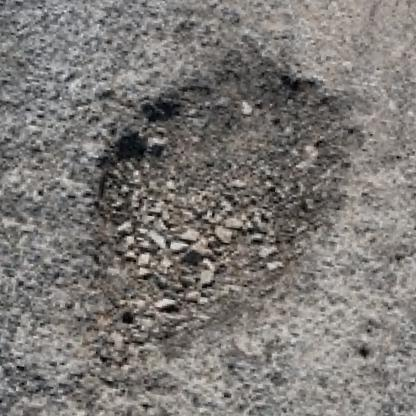pothole: (76, 22, 366, 367)
